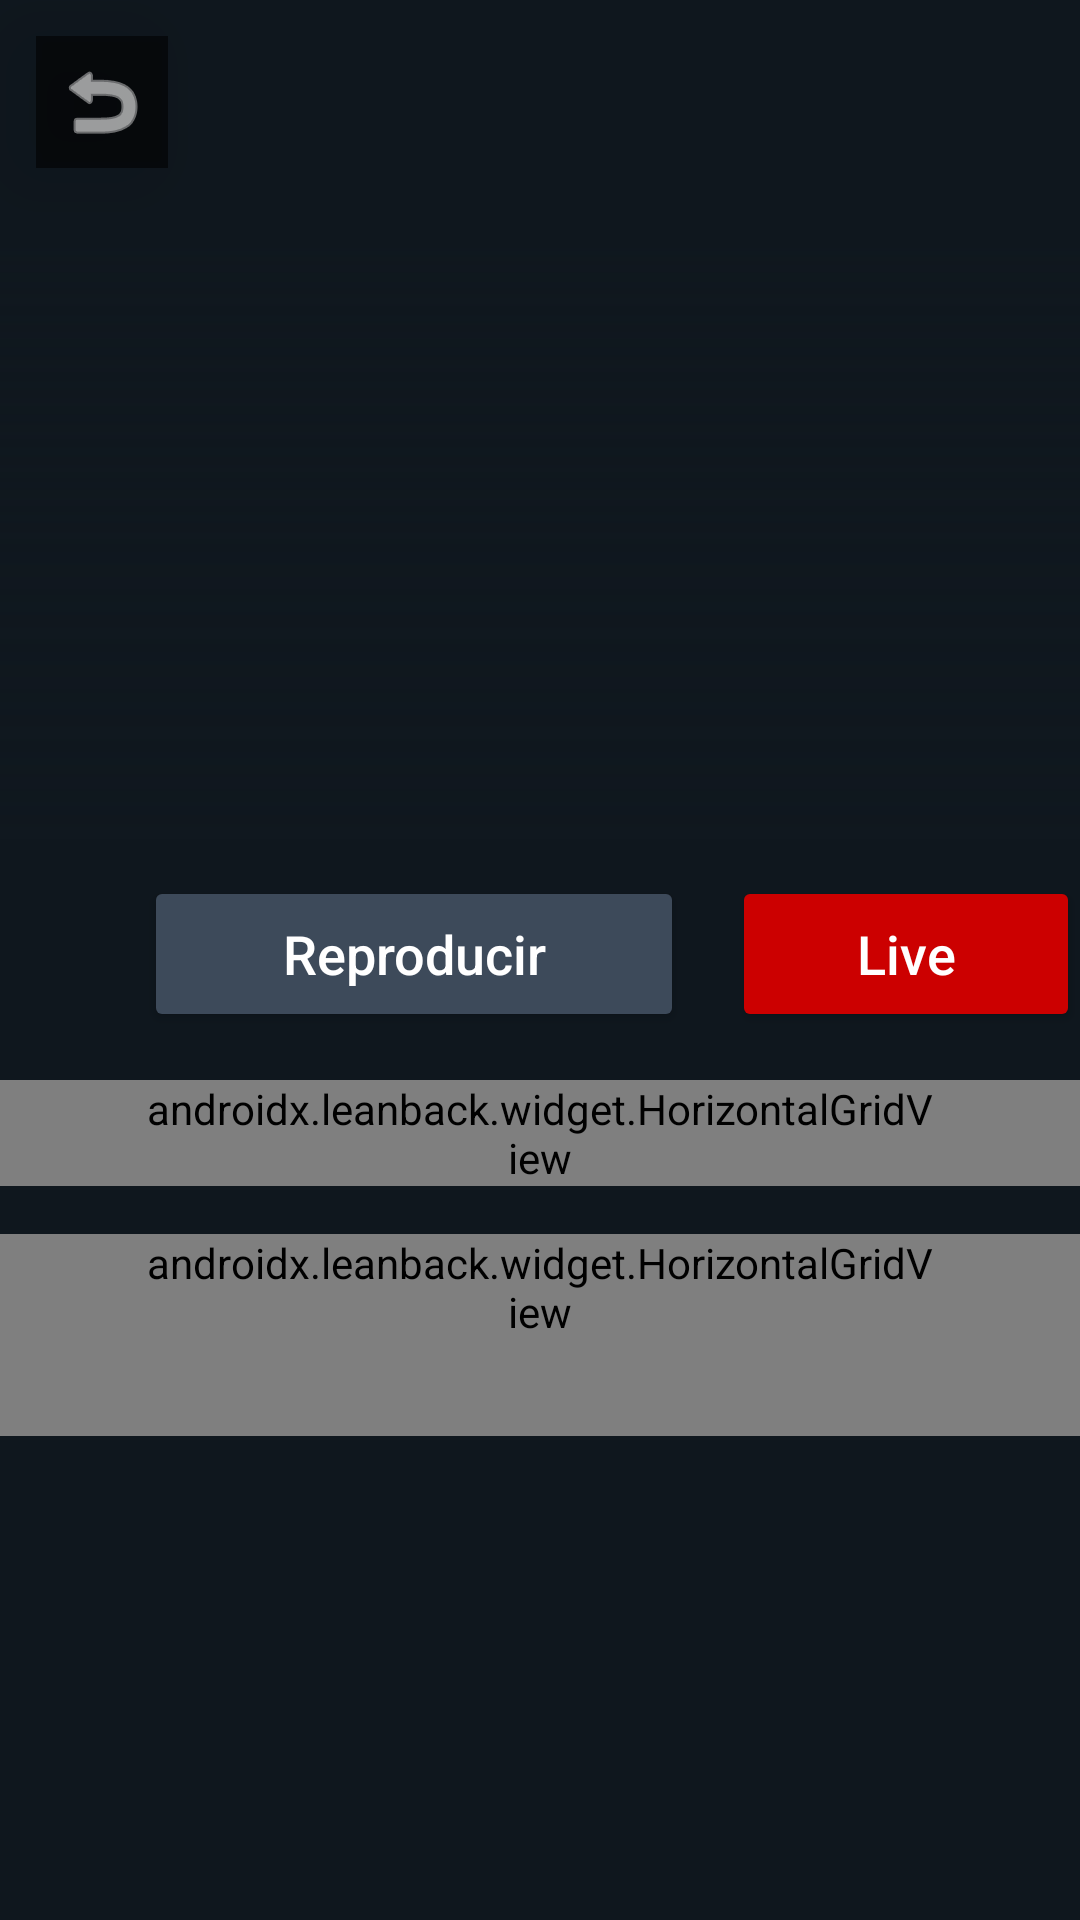

Icon bounding boxes for this 1080x1920 phone screenshot, format BBox(x1, y1, x2, y2):
Back: BBox(69, 71, 138, 134)
